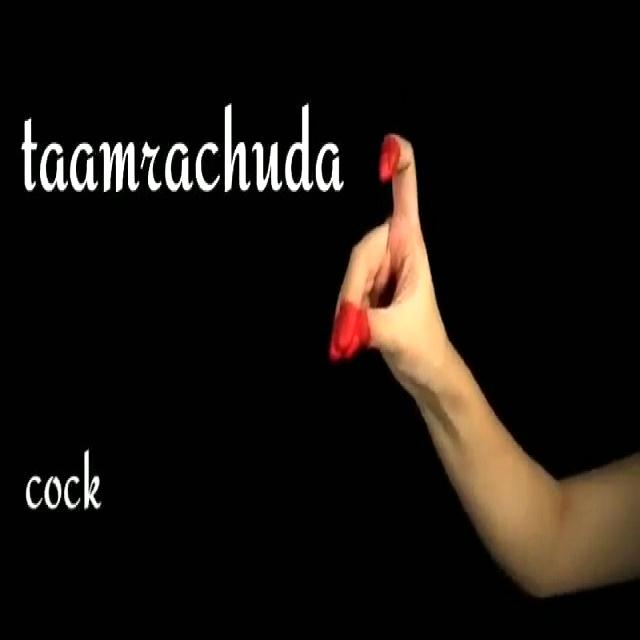Tamrachuda: (326, 114, 449, 402)
text: (13, 96, 348, 212), (9, 442, 116, 526)
